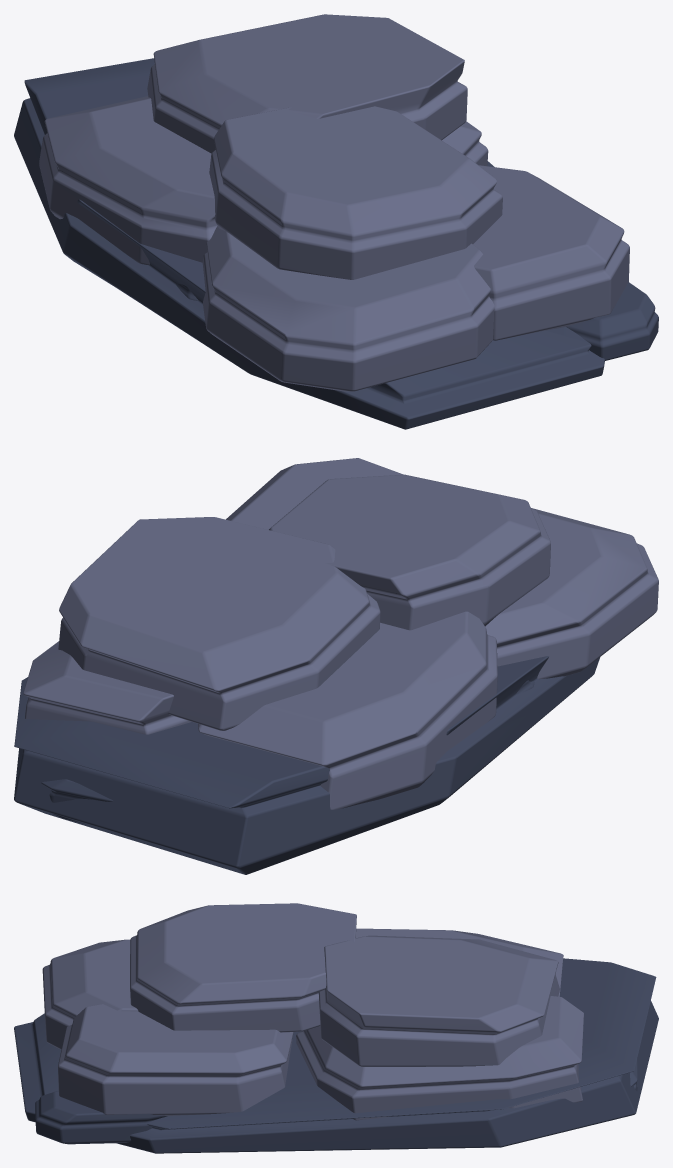
Rendered from SM_CC_RockIsland_A.fbx.
3 renders of one model, top to bottom at view 1: azimuth 30°, elevation 25°; view 2: azimuth 150°, elevation 25°; view 3: azimuth 270°, elevation 25°, orthographic. The views are drawn at different scales.
Visible parts, largest first — view 1: SM_CC_RockIsland_A; view 2: SM_CC_RockIsland_A; view 3: SM_CC_RockIsland_A.
Part boxes in pixels (bbox=[...]): SM_CC_RockIsland_A: bbox=[14, 14, 658, 429]; SM_CC_RockIsland_A: bbox=[14, 458, 658, 874]; SM_CC_RockIsland_A: bbox=[14, 903, 658, 1153].
Bounding box in the file's own units: 4 × 6.99 × 1.6.
